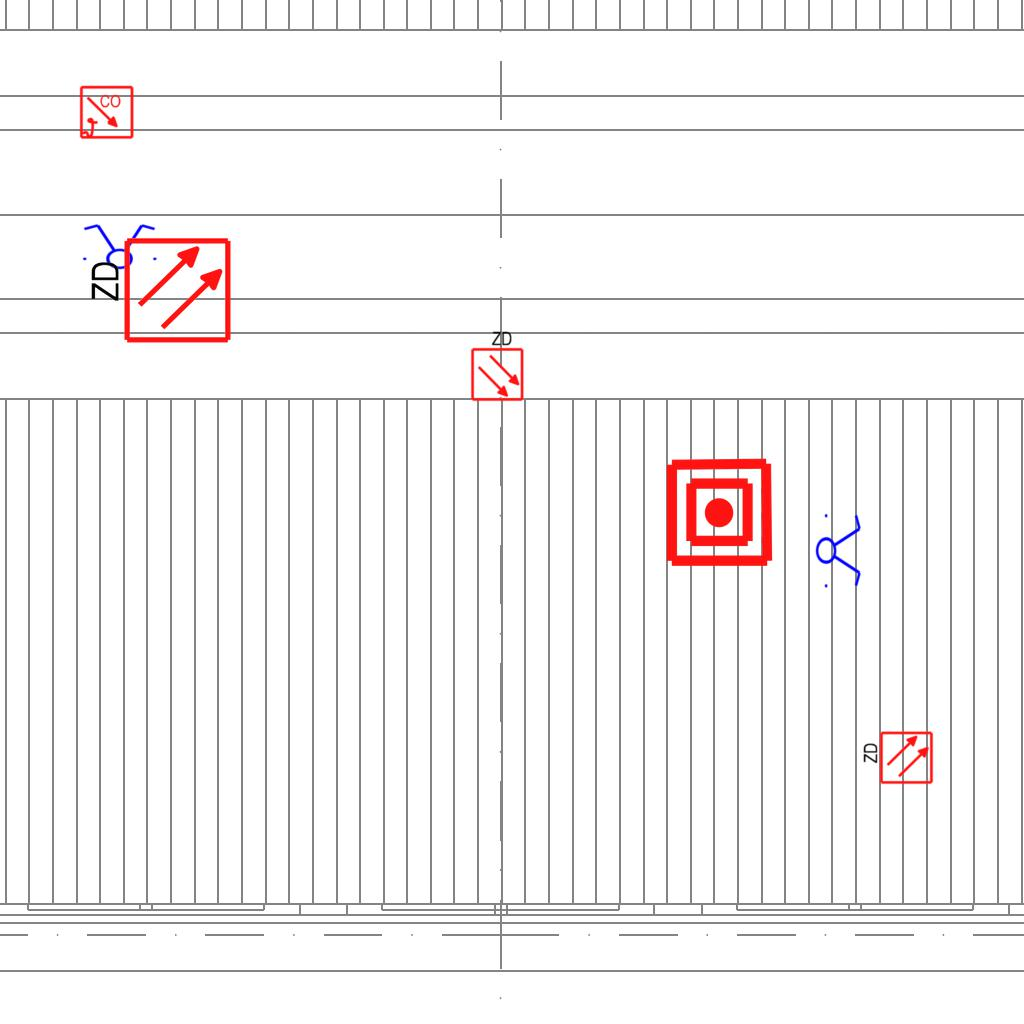NAM-Nichtautomatischer_Melder: (663, 456, 776, 569)
ROA_Rauchmelder_optisch_mit_Signalgeber_(Sockelsirene): (79, 85, 135, 141)
Serienschalter: (815, 508, 863, 592), (77, 222, 161, 270)
ZD_Melder_in_Zwischendecke_mit_Revisionsoeffnung_mind_40_x_40_cm: (84, 235, 233, 349), (860, 730, 934, 787), (468, 328, 525, 402)
